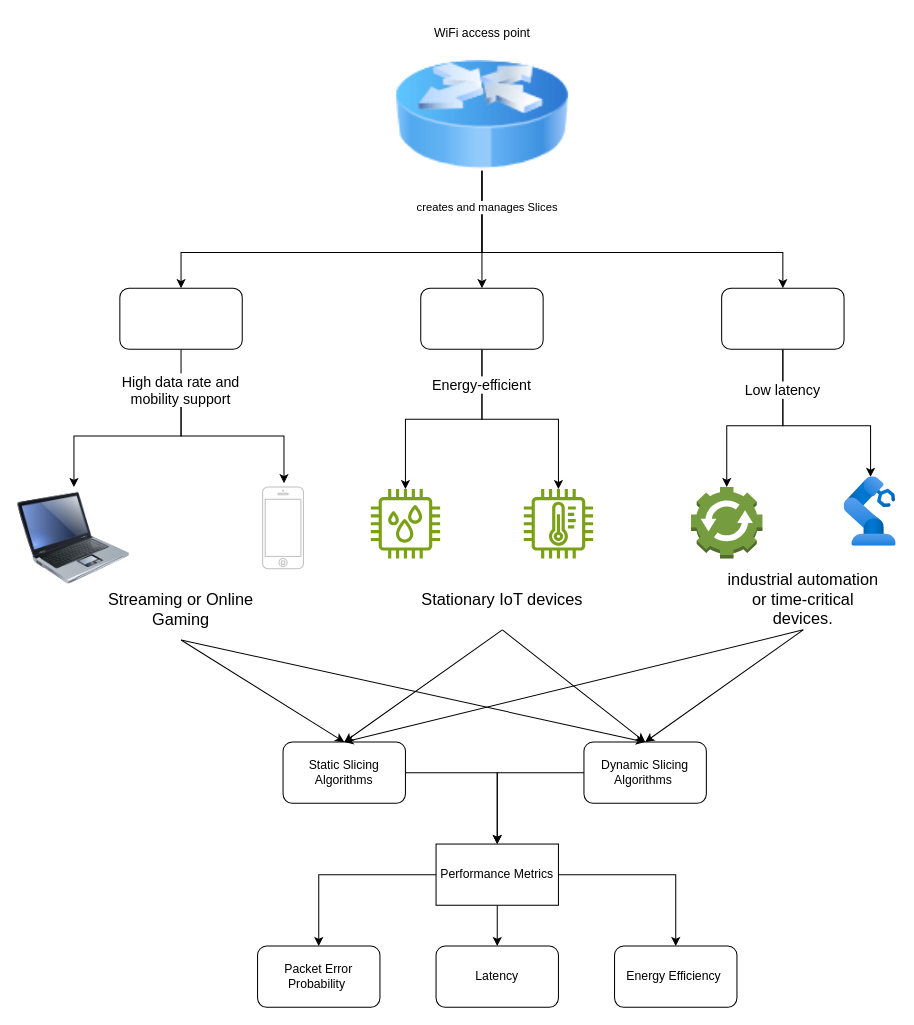
Some shapes in this 914 by 1025 pixel diagram are drawn without their labels. The shapes that lost their labels are listed below. From the top down, each one's centre as x and y in pixels, then its label:
(180,318): Slice A (eMBB)
(481,318): Slice B(mMTC)
(782,318): Slice C(URLLC)
